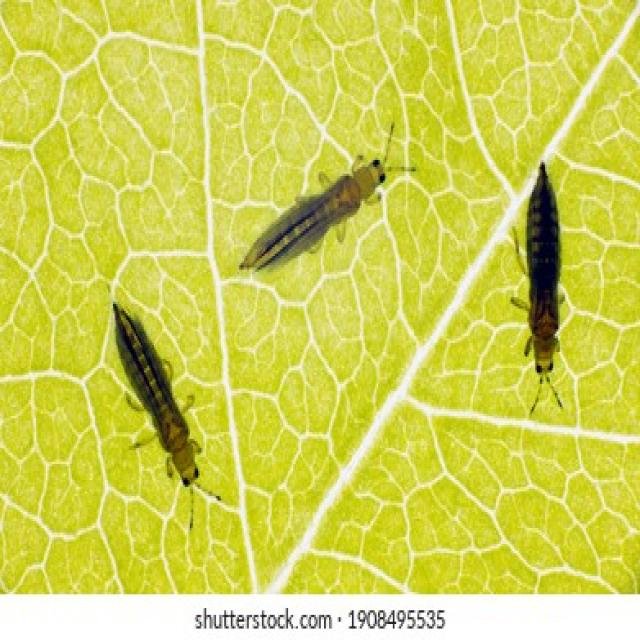Thrip-Adult-: (92, 284, 226, 532), (240, 117, 424, 289), (506, 130, 590, 432)
